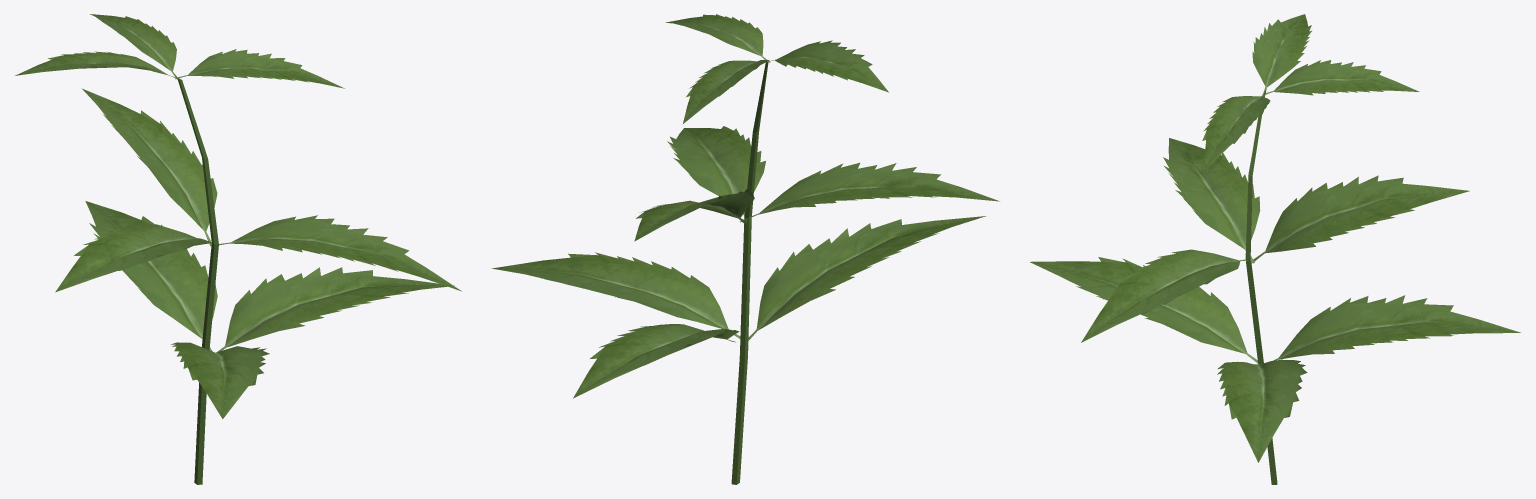
Rendered from nettle_02.gltf.
3 views of the same model, side by side, from view 1: azimuth 30°, elevation 25°; view 2: azimuth 150°, elevation 25°; view 3: azimuth 270°, elevation 25° (orthographic). The views are drawn at different scales.
Visible parts, largest first — view 1: Nettle 02; view 2: Nettle 02; view 3: Nettle 02.
Part boxes in pixels (bbox=[...]): Nettle 02: bbox=[15, 14, 461, 484]; Nettle 02: bbox=[491, 14, 999, 484]; Nettle 02: bbox=[1030, 14, 1520, 484].
Size of the model in its own units: 0.2603 by 0.2484 by 0.2722.
1 material, 1 textured.
